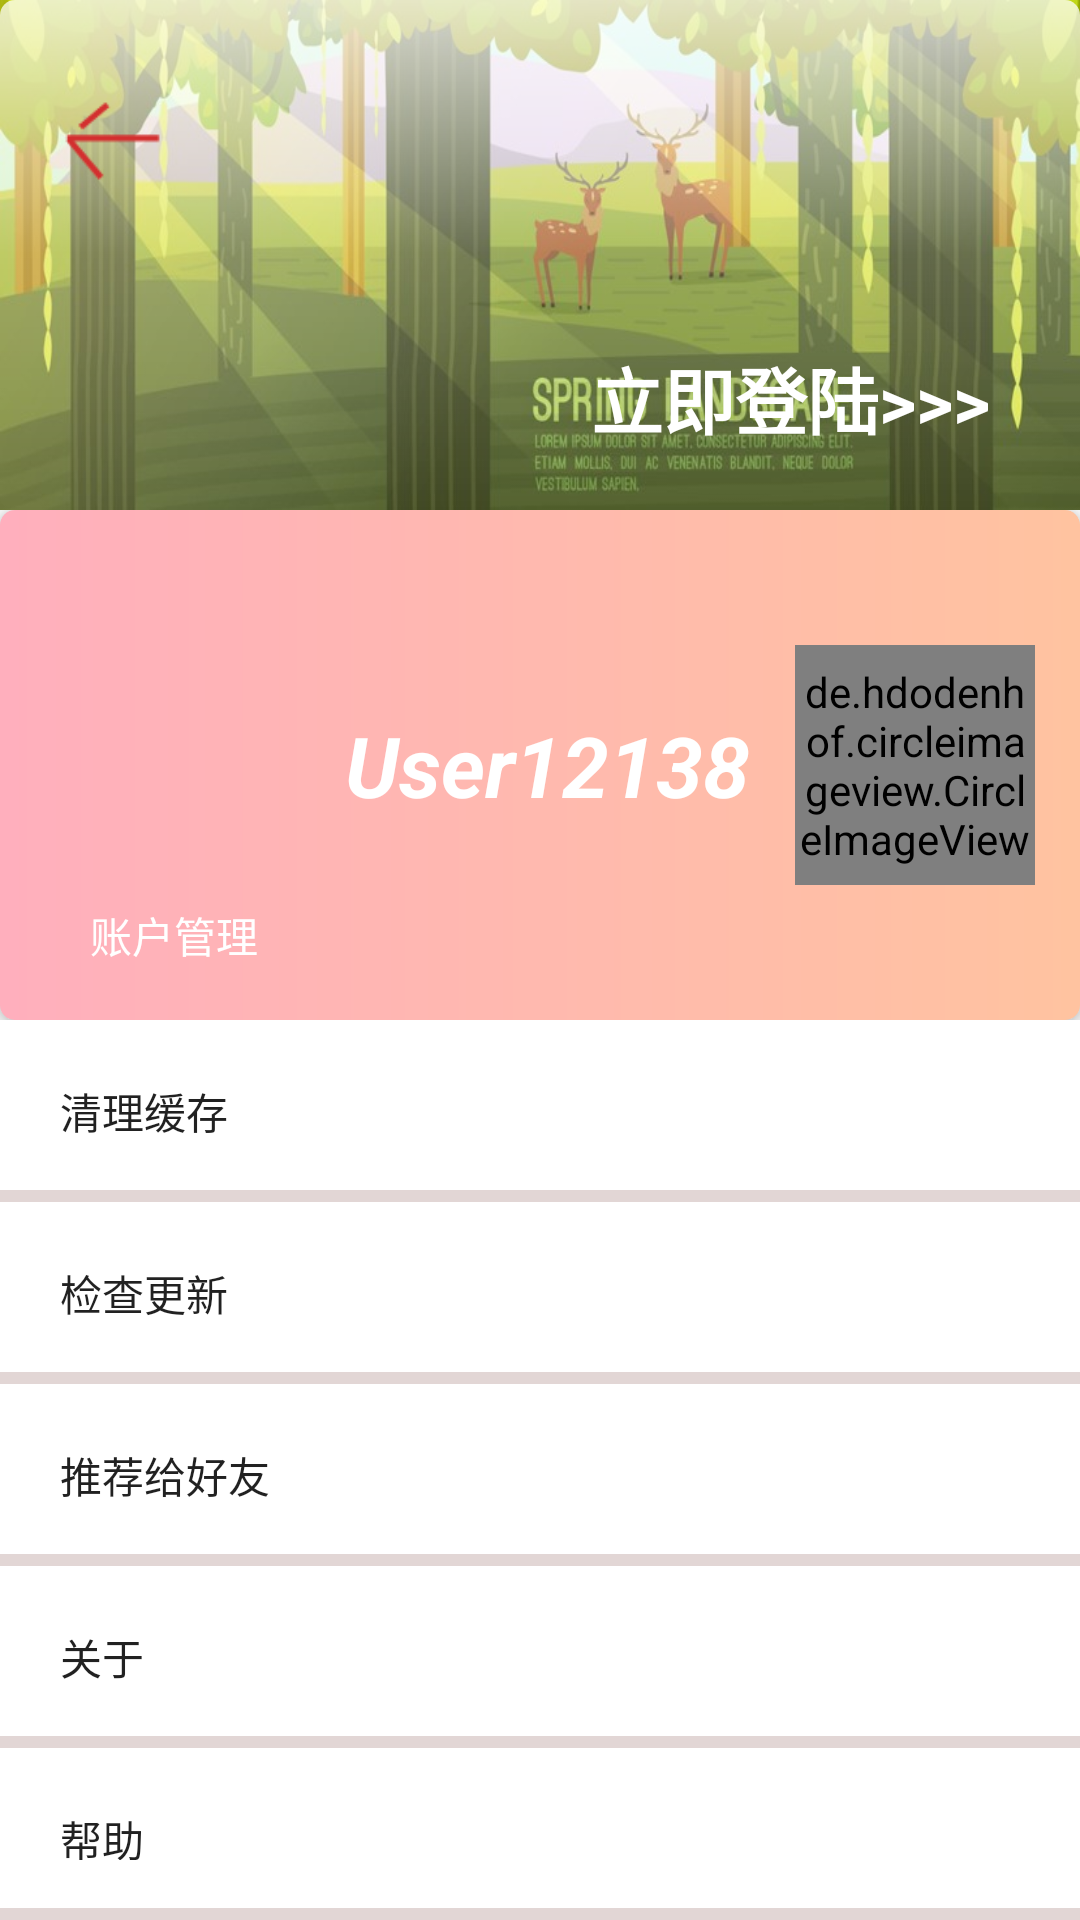

Screen size 1080px x 1920px. Icon name, then its center in pixels as [x,y]:
back: [105,144]
